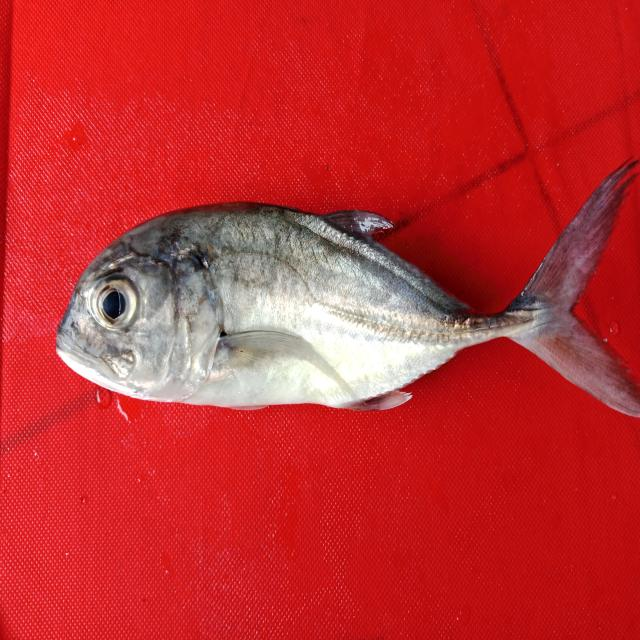ikan: (36, 160, 634, 428)
